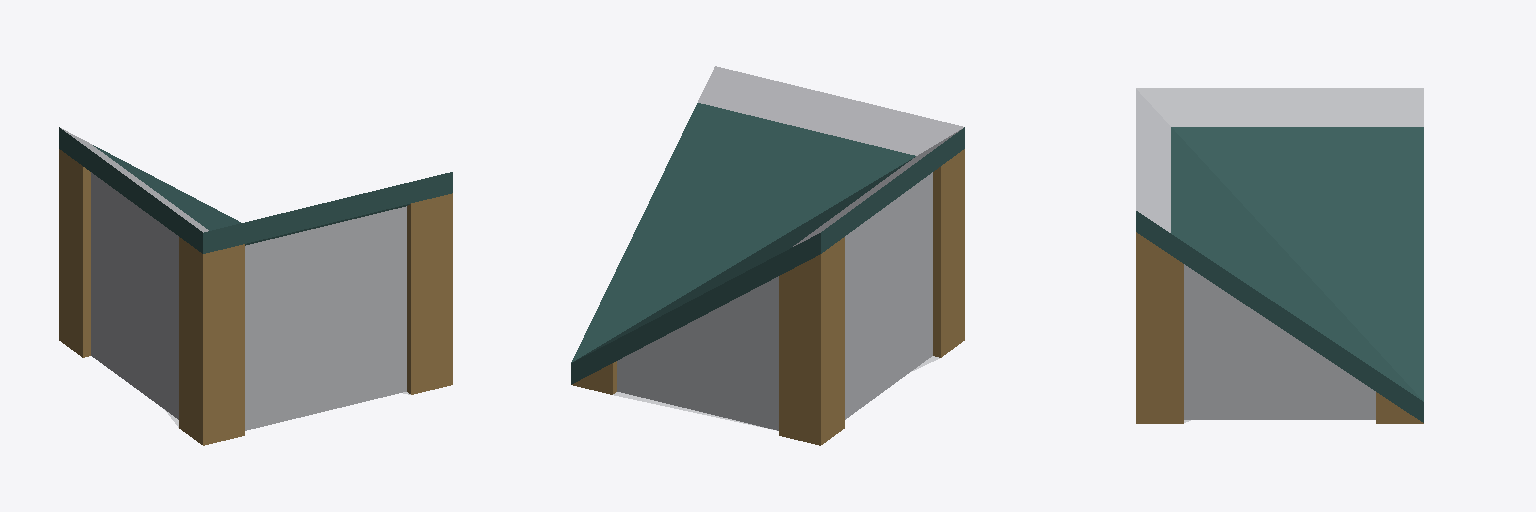
Rendered from Roof_Inner_Corner_Green_01.obj.
3 views of the same model, side by side, from view 1: azimuth 30°, elevation 25°; view 2: azimuth 150°, elevation 25°; view 3: azimuth 270°, elevation 25° (orthographic).
Parts seen in each view (by area): view 1: Mesh1 Roof_Inner_Corner_Green Model; view 2: Mesh1 Roof_Inner_Corner_Green Model; view 3: Mesh1 Roof_Inner_Corner_Green Model.
Boxes of the visible parts, <box> form: Mesh1 Roof_Inner_Corner_Green Model: <box>59,127,452,445</box>; Mesh1 Roof_Inner_Corner_Green Model: <box>571,66,964,445</box>; Mesh1 Roof_Inner_Corner_Green Model: <box>1136,88,1423,423</box>.
Bounding box in the file's own units: 3 × 2.45 × 3.